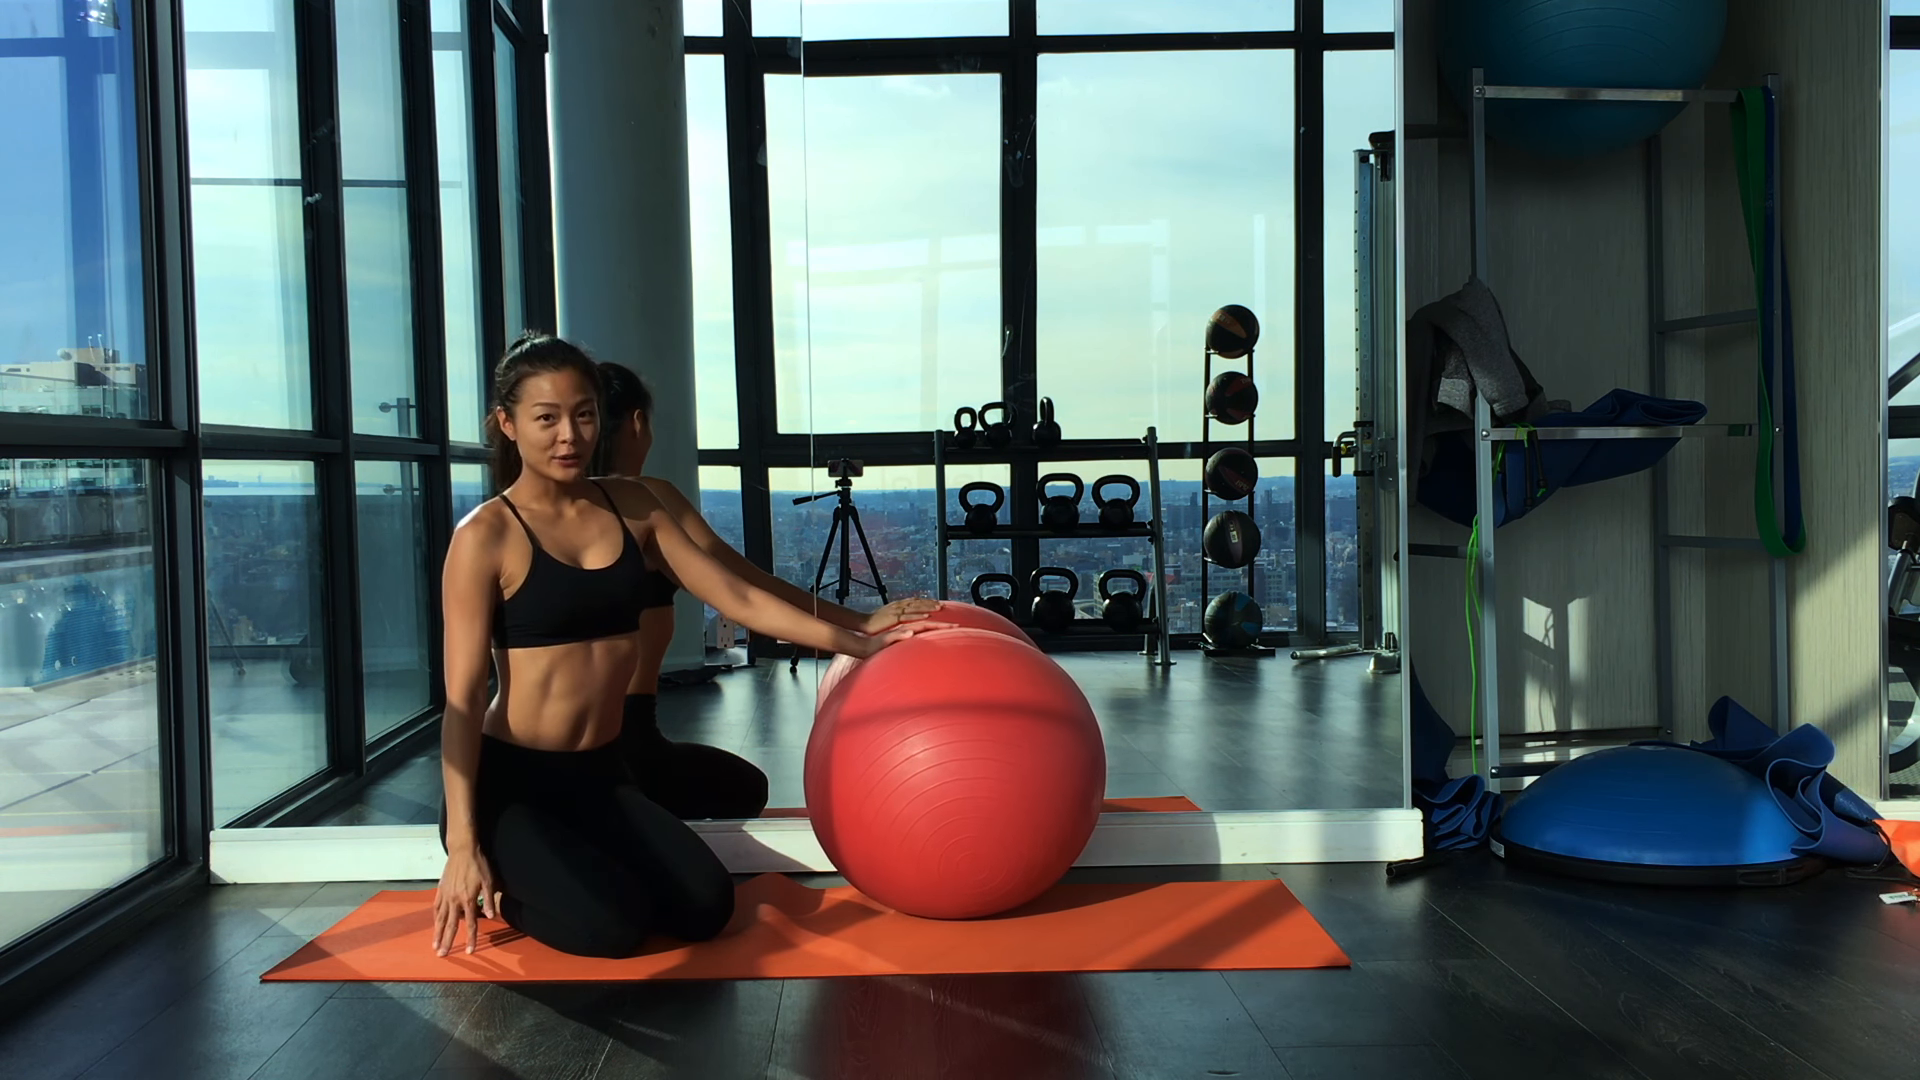yogaball: (789, 592, 1130, 930)
